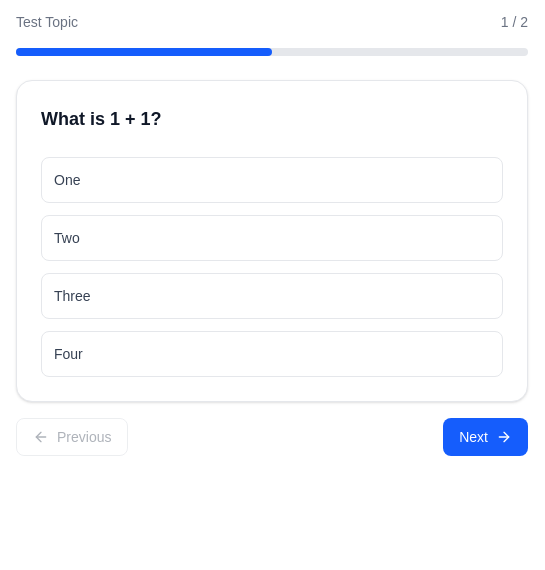
Test: QuizRunner › shows incorrect answers in results
Click the button "One" at x=67, y=180, box [41,157,503,203]
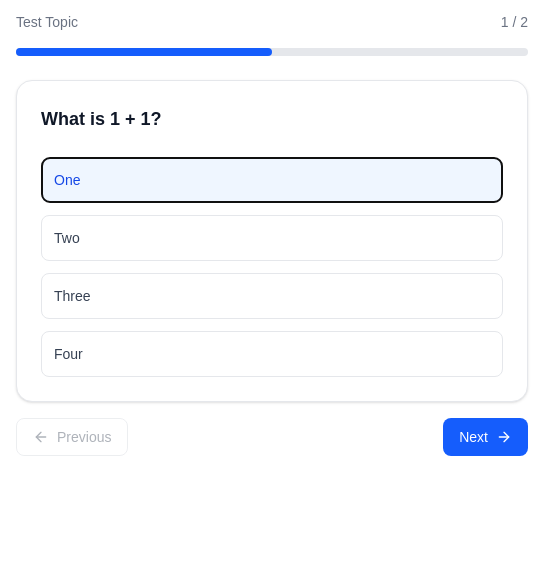
Click the button "Next" at x=486, y=437, box [443,418,528,456]
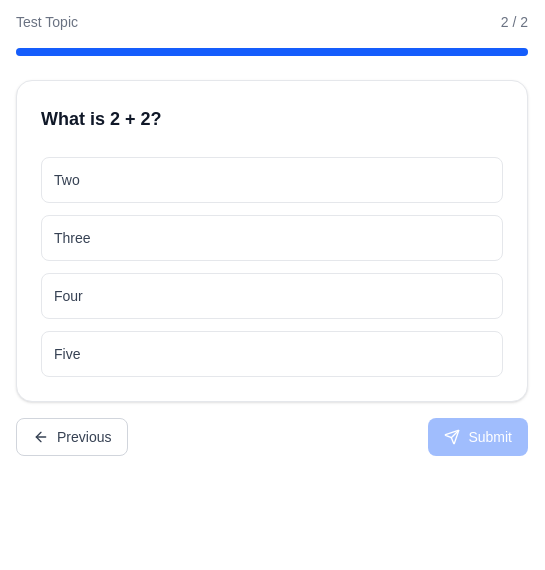
Click the button "Two" at x=67, y=180, box [41,157,503,203]
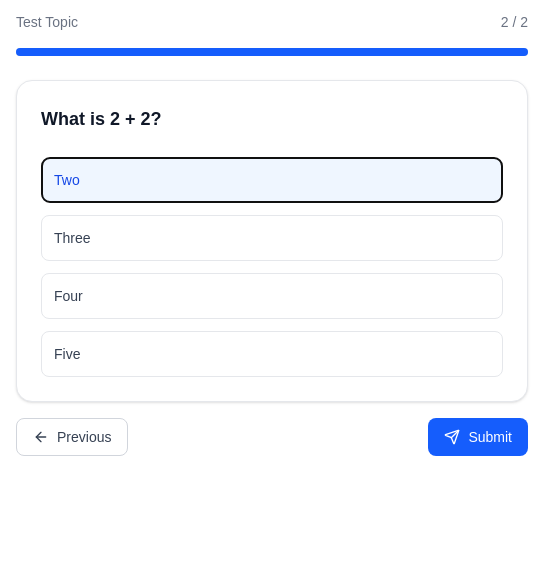
Click the button "Submit" at x=478, y=437, box [428,418,528,456]
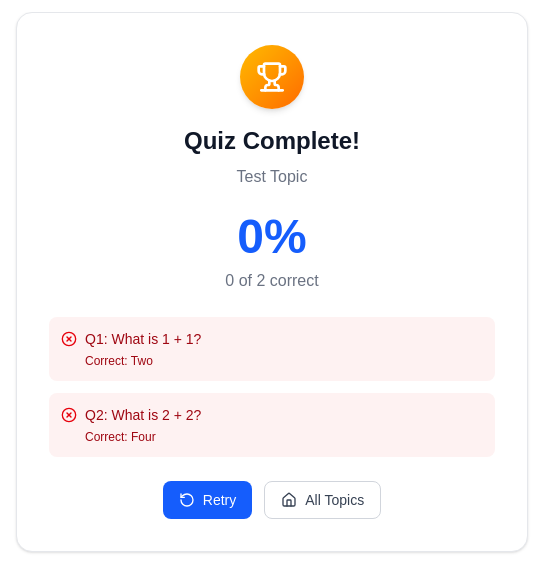
Expected: the text "0%" is shown, [237,210,307,263]
Expected: the text "0 of 2 correct" is shown, [225,272,319,289]
